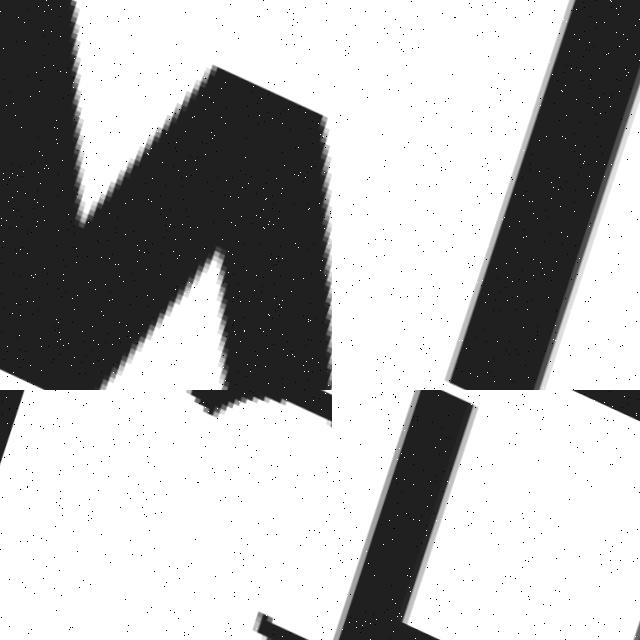3: (0, 390, 332, 640)
H: (332, 390, 640, 640)
I: (398, 0, 640, 390)
N: (0, 0, 332, 390)
